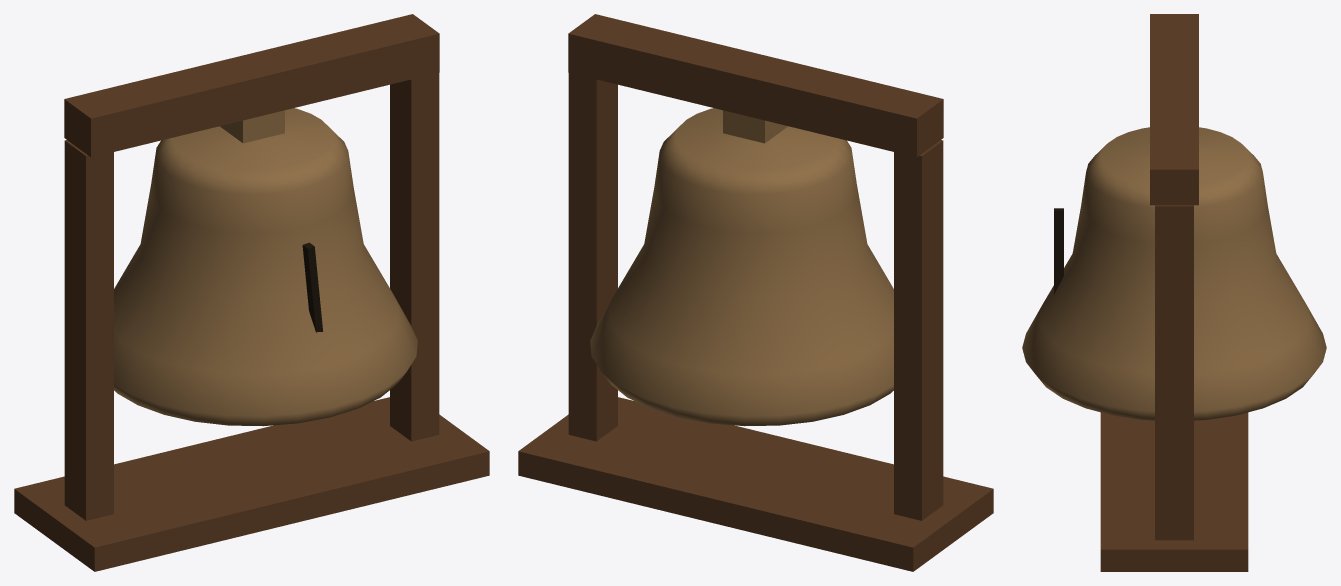
3 renders of one model, left to right at view 1: azimuth 30°, elevation 25°; view 2: azimuth 150°, elevation 25°; view 3: azimuth 270°, elevation 25°, orthographic. The views are drawn at different scales.
Size of the model in its own units: 1.7 by 1.76 by 1.24.
